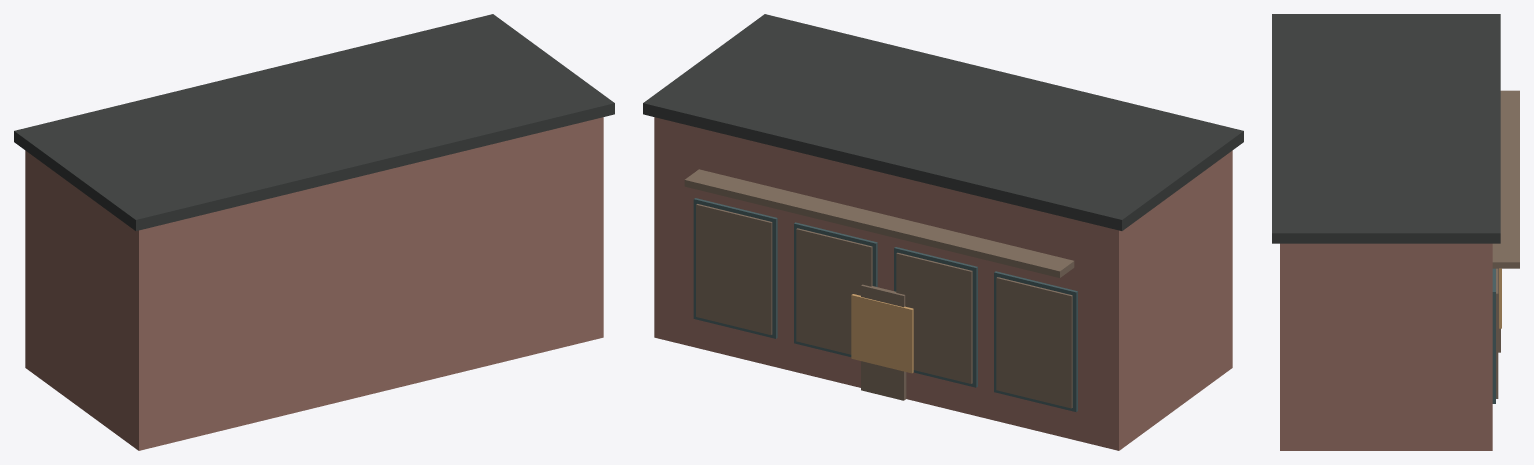
Rendered from store_laundromat.glb.
3 views of the same model, side by side, from view 1: azimuth 30°, elevation 25°; view 2: azimuth 150°, elevation 25°; view 3: azimuth 270°, elevation 25° (orthographic). The views are drawn at different scales.
Bounding box in the file's own units: 13.4 × 6.3 × 6.4.
